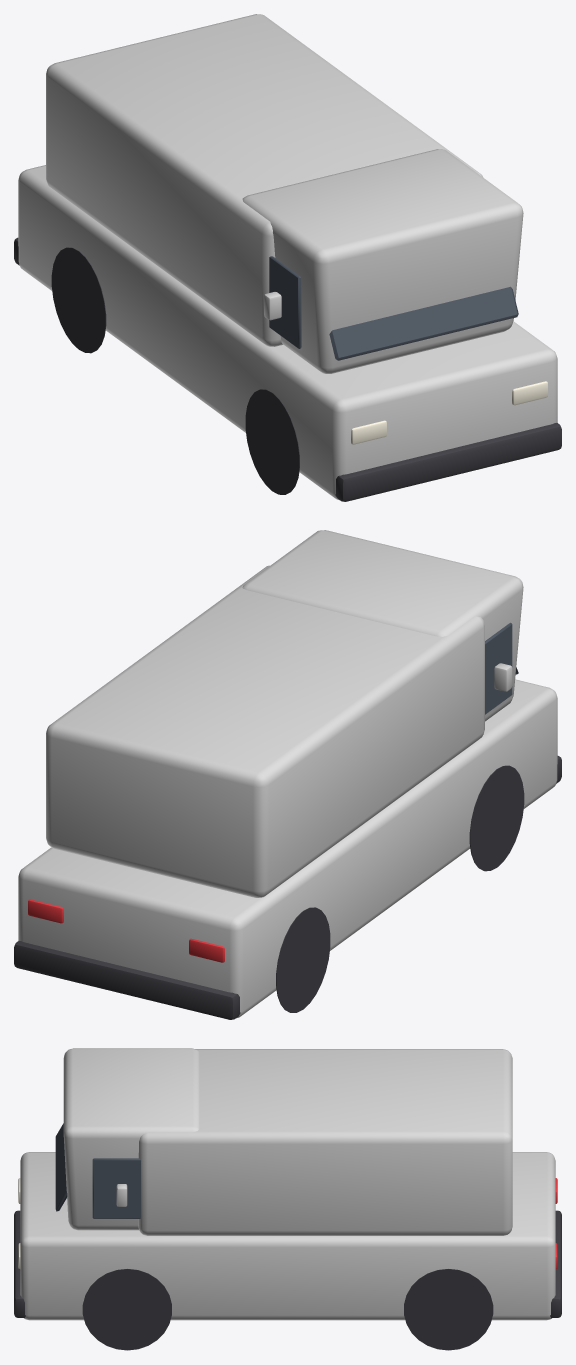
File: car_van.glb
3 renders of one model, top to bottom at view 1: azimuth 30°, elevation 25°; view 2: azimuth 150°, elevation 25°; view 3: azimuth 270°, elevation 25°, orthographic. The views are drawn at different scales.
Visible parts, largest first — view 1: car_van; view 2: car_van; view 3: car_van.
Part boxes in pixels (x1,y1,x2,y2): car_van: [14, 14, 561, 501]; car_van: [14, 530, 561, 1019]; car_van: [14, 1048, 561, 1350].
Bounding box in the file's own units: 2.18 × 2.24 × 5.12.
